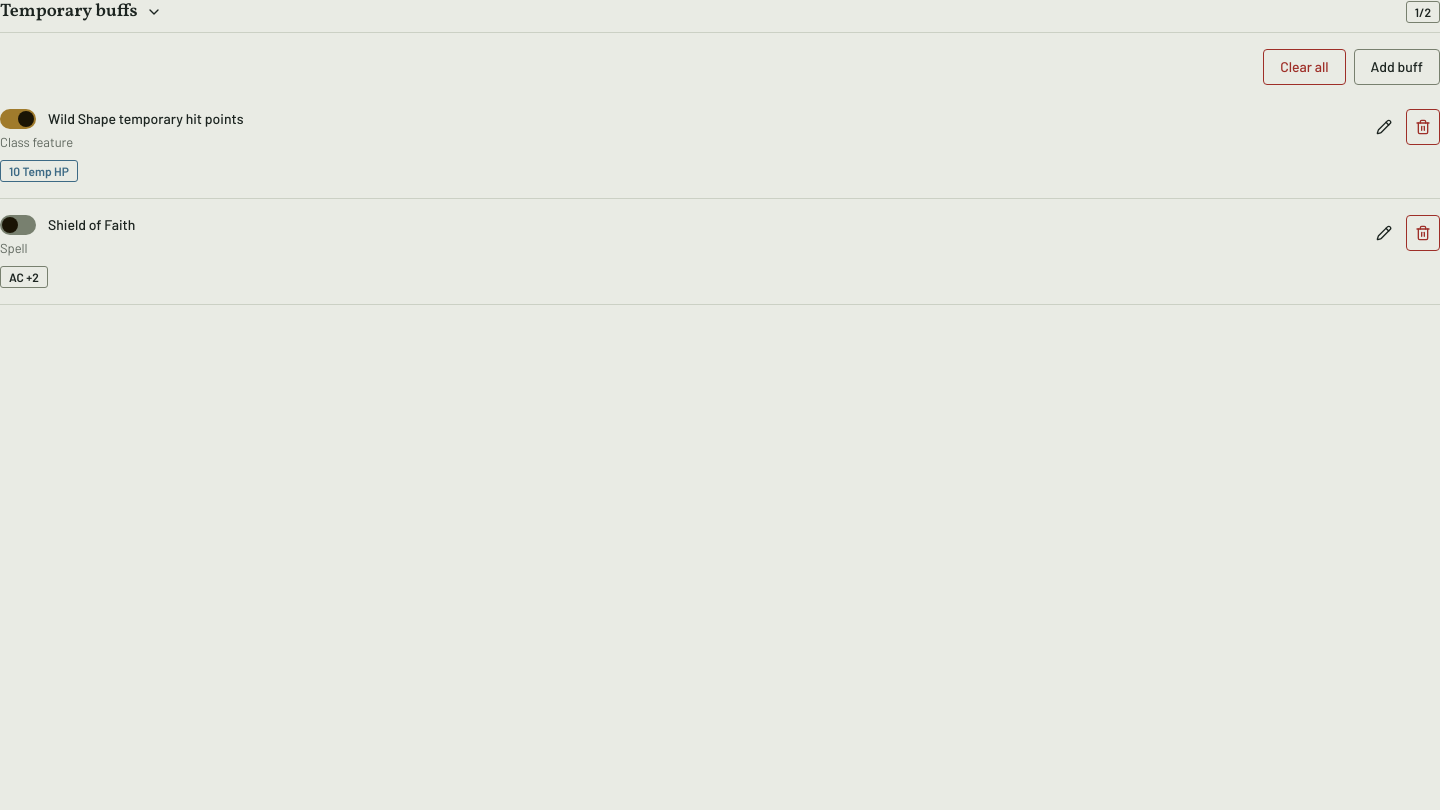
Test: TemporaryBuffsManager effects › opens the existing add/edit form in a dialog and keeps numeric buff values
This screenshot has width=1440, height=810.
What coordinates should you click on to do the following:
click the button "Add buff"
I would click on:
 (1397, 67)
Its box is [1354,49,1439,85].
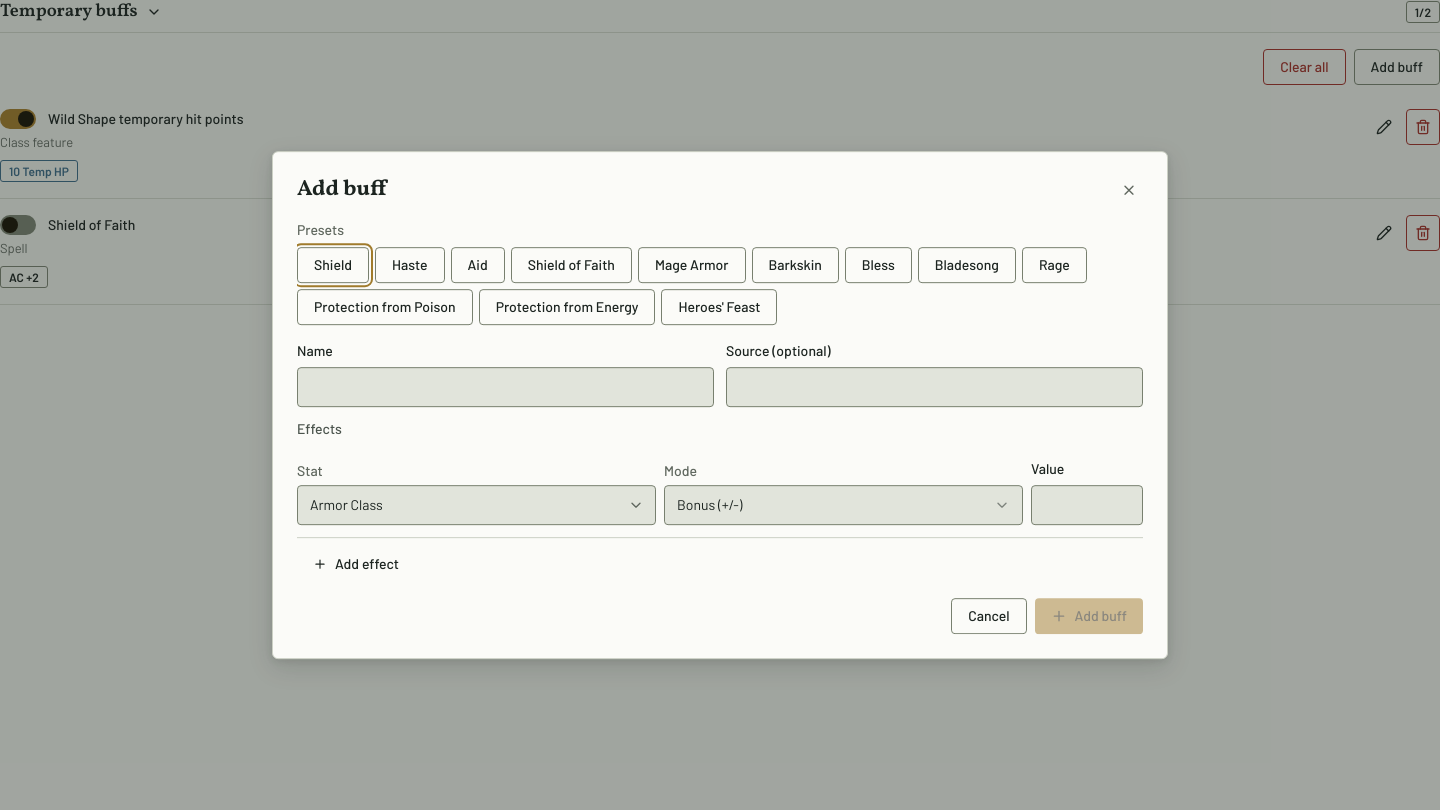
Now the dialog "Add buff" is shown, box [272,151,1168,659]
Now the field labelled "Name" is shown, box [297,367,714,407]
What coordinates should you click on to do the following:
click the button "Cancel"
I would click on:
 (989, 616)
Its box is [951,598,1027,634].
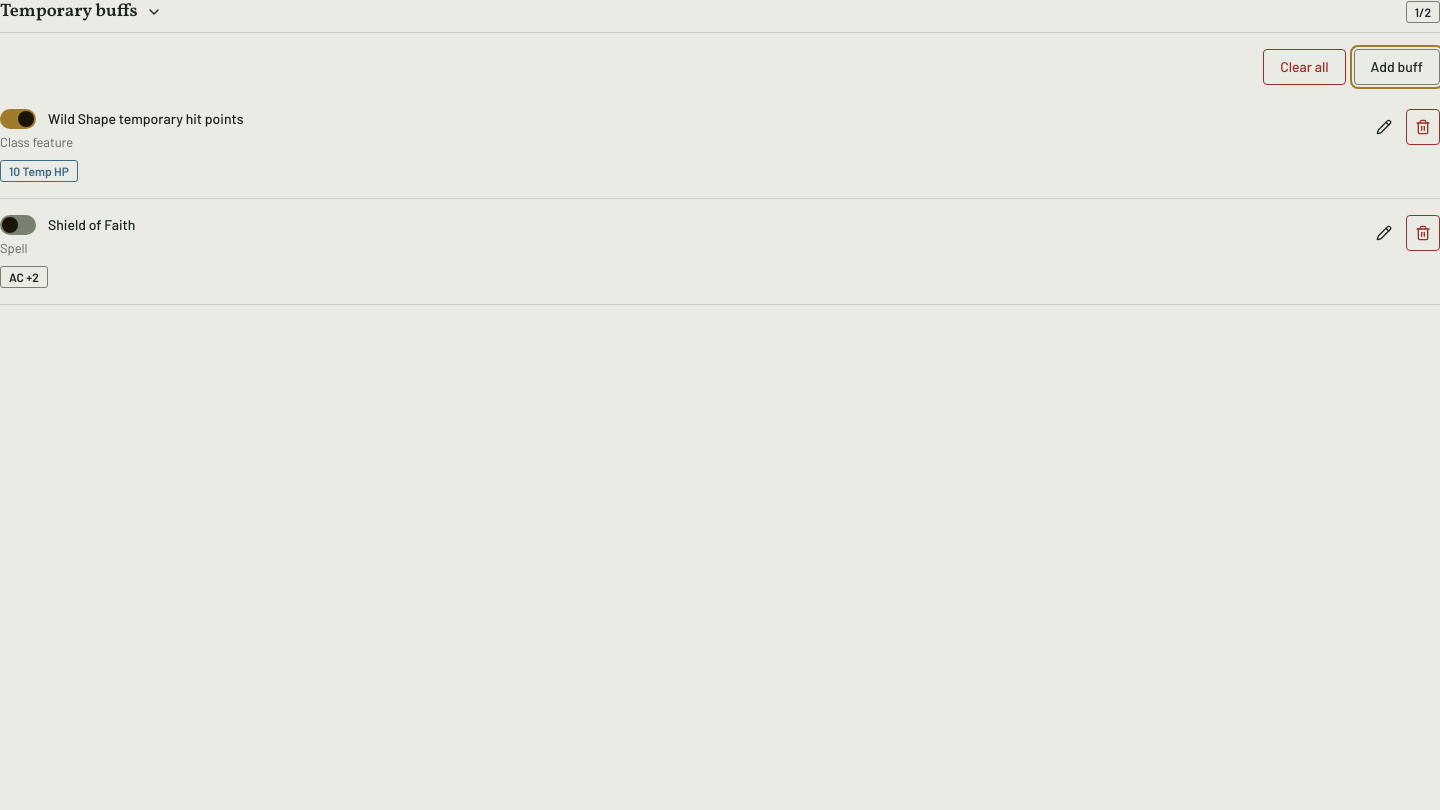
What coordinates should you click on to do the following:
click the button named "Edit Wild Shape temporary hit points"
I would click on:
 (1384, 127)
Its box is [1368,109,1400,145].
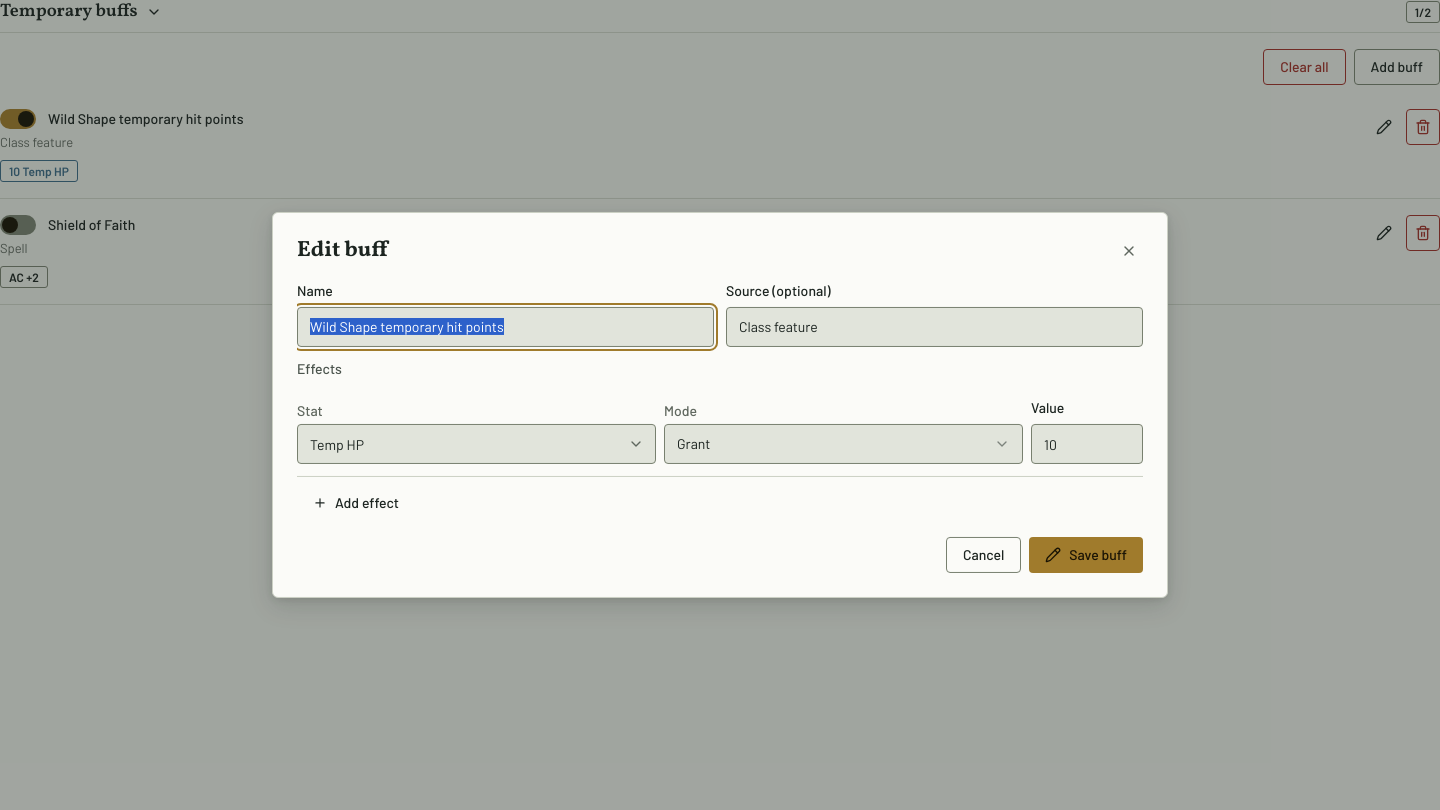
Now the dialog "Edit buff" is shown, box [272,212,1168,598]
What coordinates should you click on to do the following:
click the button "Add effect"
I would click on:
 (356, 503)
Its box is [297,485,415,521].
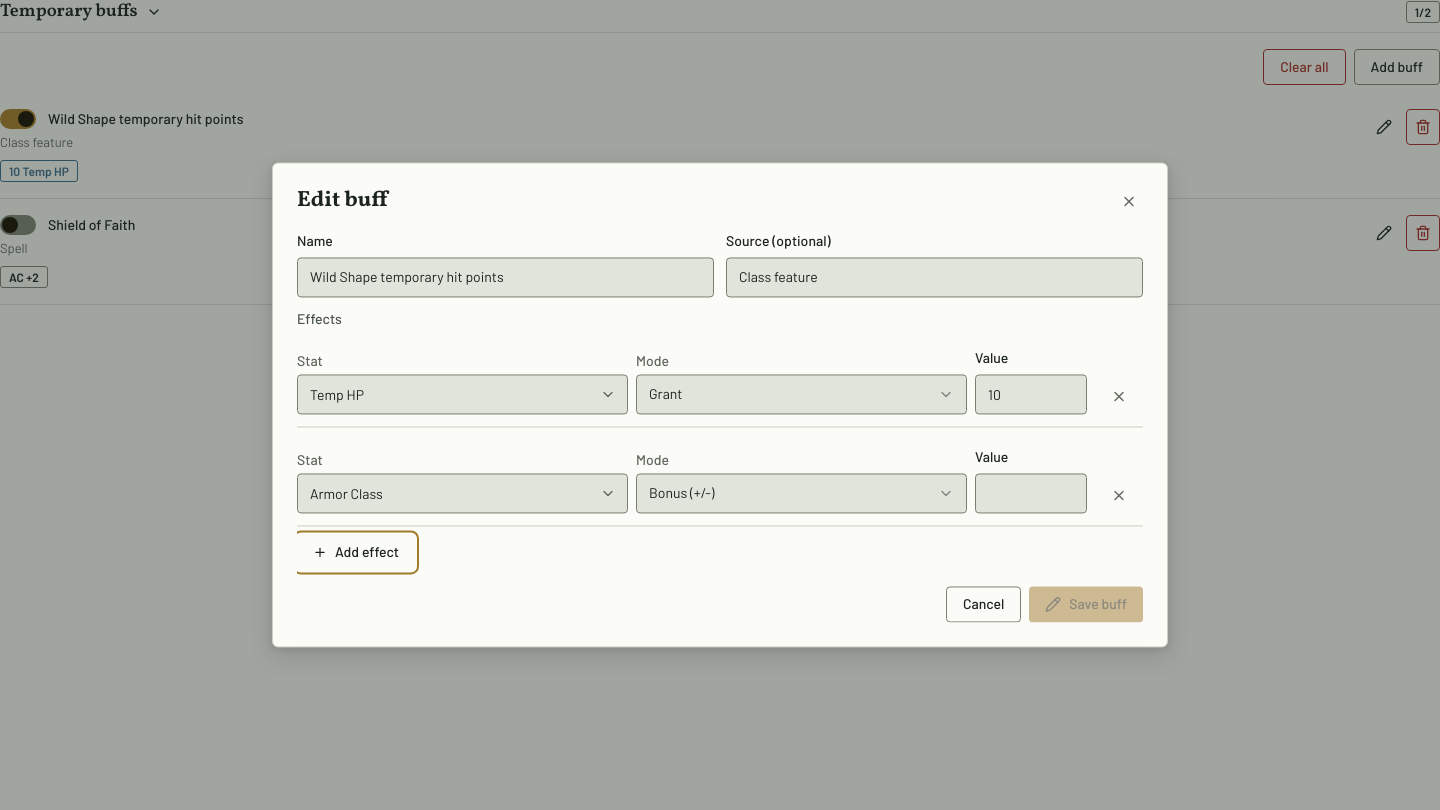
Now the number of buttons named "Remove effect" is 2, box [1095,378,1143,414]; [1095,478,1143,514]
